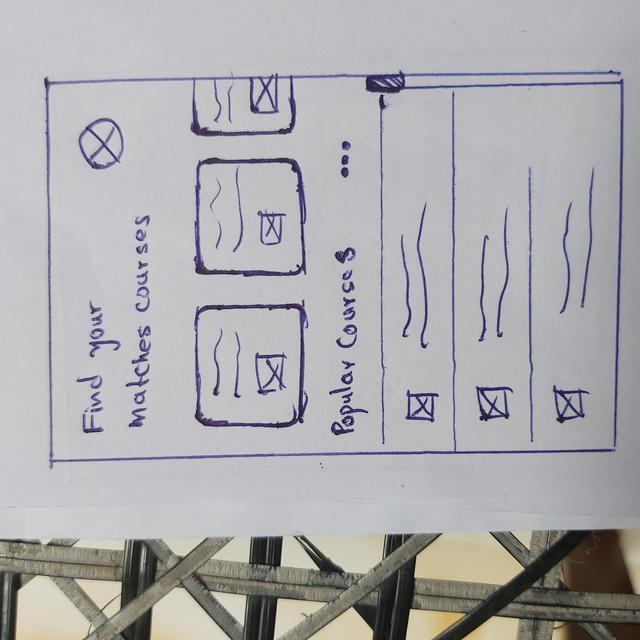CardView: (193, 303, 309, 430), (194, 157, 308, 278), (191, 78, 297, 137)
HorizontalListView: (189, 77, 314, 454)
Icon: (341, 142, 351, 172)
Image: (255, 354, 285, 394), (478, 387, 510, 419), (252, 78, 278, 112), (555, 390, 584, 420), (408, 393, 435, 419), (262, 213, 281, 244)
Layout: (451, 91, 538, 453), (379, 92, 457, 454), (534, 89, 611, 448)
ListView: (378, 89, 620, 450), (187, 77, 315, 454)
MainLayout: (42, 76, 625, 455)
RoundedImage: (80, 117, 124, 169)
ScrollBar: (369, 74, 623, 88)
TextView: (334, 249, 362, 436), (398, 209, 433, 353), (561, 173, 592, 316), (479, 213, 510, 342), (211, 167, 249, 262), (133, 213, 149, 428), (83, 301, 105, 431), (214, 330, 241, 399), (212, 81, 236, 124)
VerticalListView: (377, 89, 616, 448)
